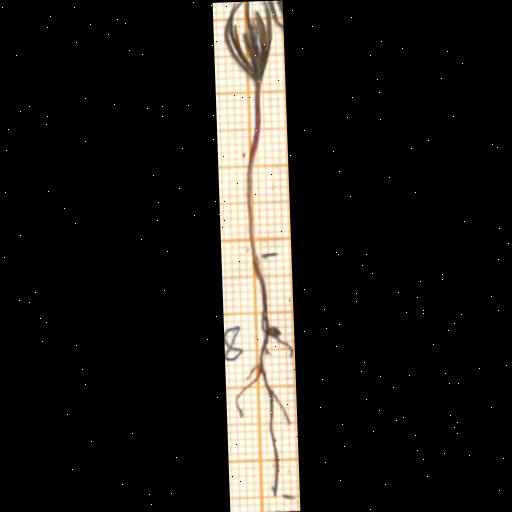flowerPinus: (223, 0, 273, 82)
rootPinus: (234, 255, 290, 494)
stemPinus: (247, 81, 262, 253)
